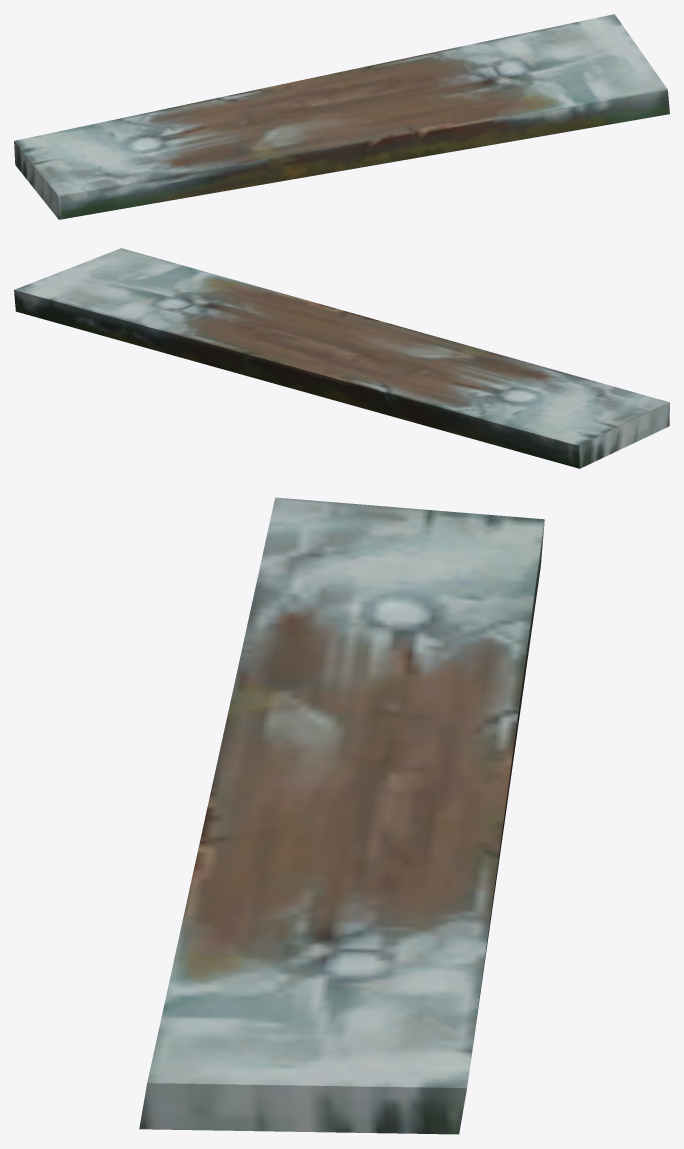
File: common_yewai_shourenmuban01.FBX
3 renders of one model, top to bottom at view 1: azimuth 30°, elevation 25°; view 2: azimuth 150°, elevation 25°; view 3: azimuth 270°, elevation 25°, orthographic. The views are drawn at different scales.
Visible parts, largest first — view 1: common_yewai_shourenmuban01; view 2: common_yewai_shourenmuban01; view 3: common_yewai_shourenmuban01.
Part boxes in pixels (x1,y1,x2,y2): common_yewai_shourenmuban01: (14,14,669,219); common_yewai_shourenmuban01: (14,248,669,468); common_yewai_shourenmuban01: (139,497,544,1134).
Bounding box in the file's own units: 12.68 × 3.68 × 0.6888.
